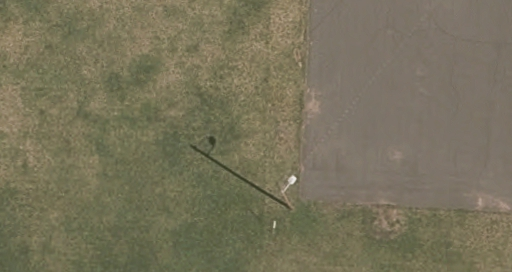DT: (273, 182, 290, 197)
